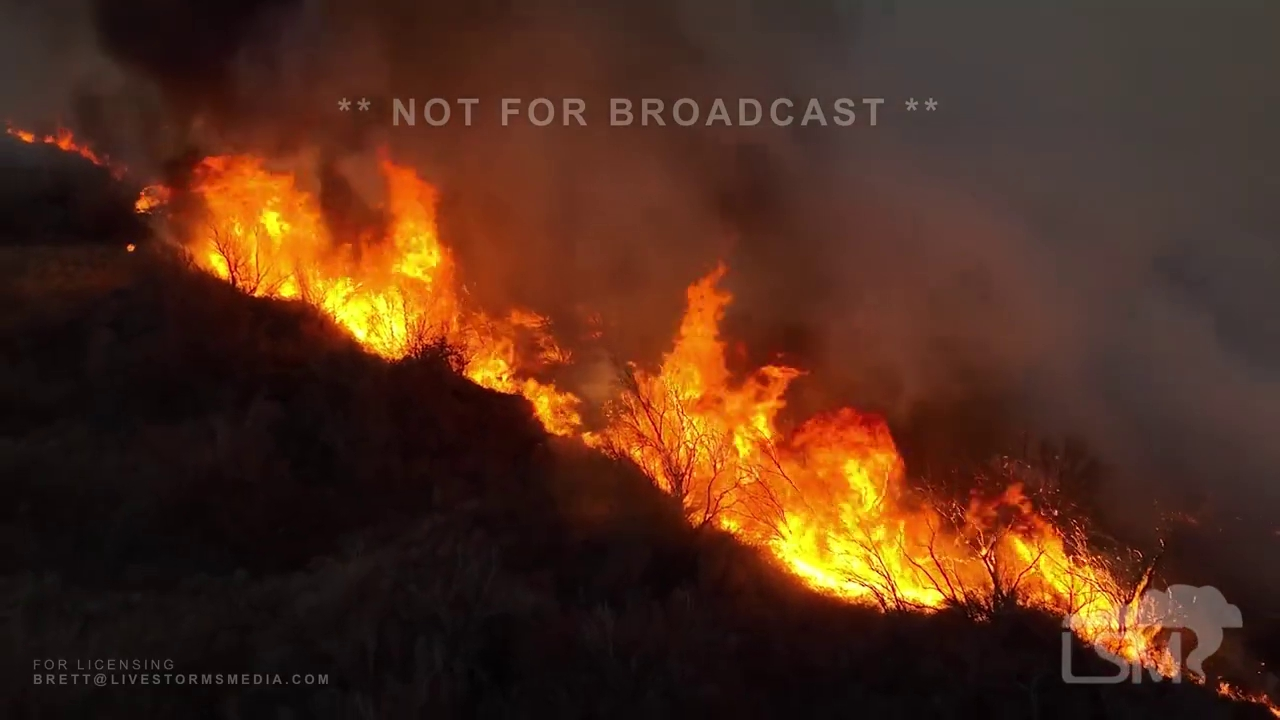forest_fire: (181, 153, 1183, 676), (53, 133, 112, 166), (1219, 683, 1279, 715), (137, 184, 174, 211), (9, 129, 36, 138)
